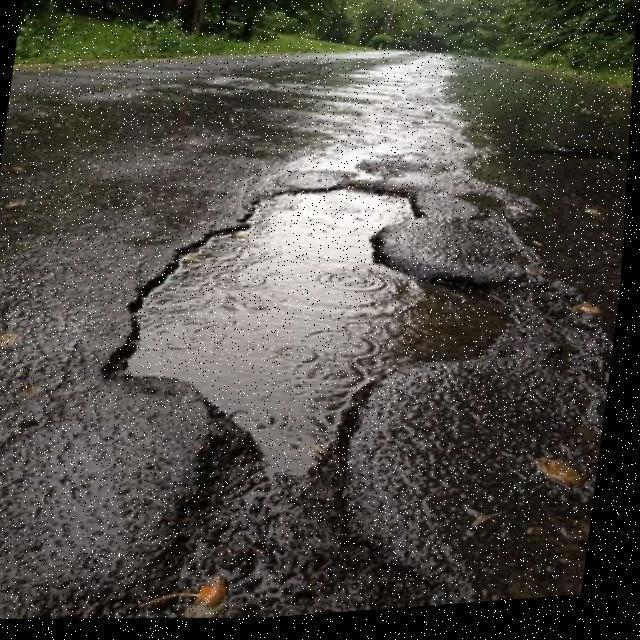Pothole: (91, 175, 543, 614)
